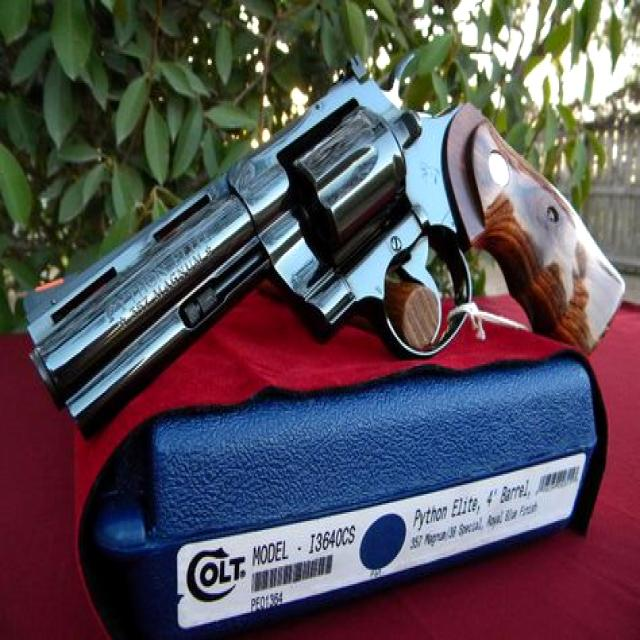revolver: (2, 15, 639, 640)
